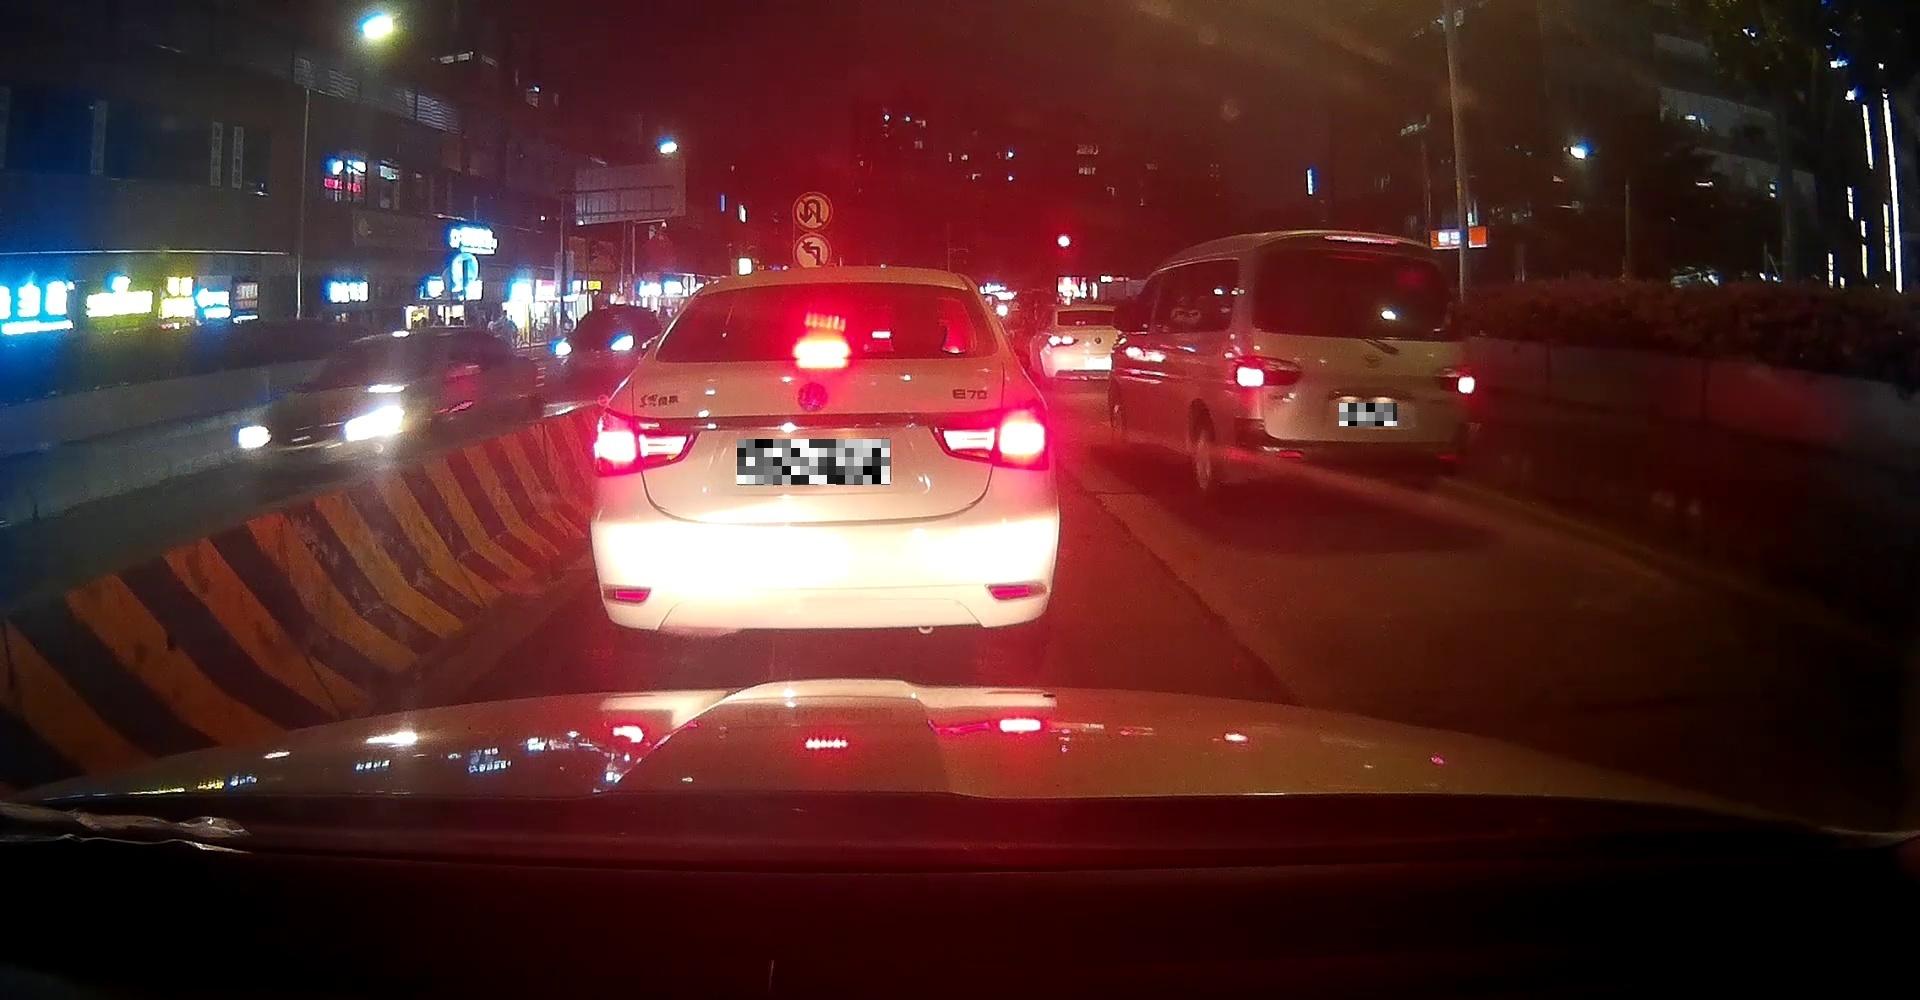L_light: (594, 409, 697, 477), (1236, 355, 1300, 388)
R_light: (930, 401, 1050, 470), (1437, 367, 1473, 395)
T_light: (792, 341, 850, 360), (1326, 234, 1397, 245)
night-brake: (590, 270, 1058, 650), (1234, 231, 1474, 500)
plate_1: (737, 439, 890, 485)
plate_2: (1338, 404, 1397, 426)
